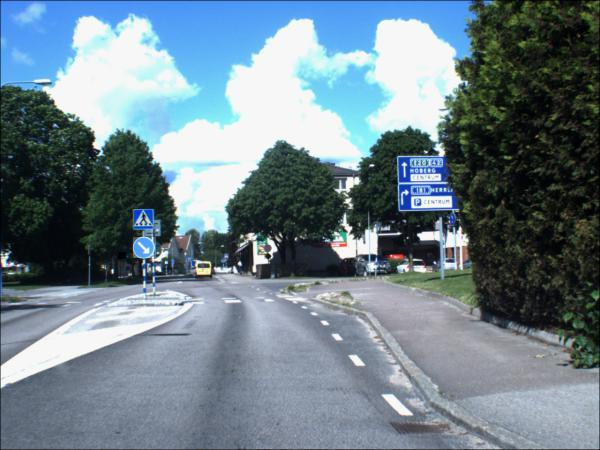NO_STOPPING_NO_STANDING: (265, 245, 275, 255)
PASS_RIGHT_SIDE: (134, 238, 158, 260), (194, 262, 198, 268), (189, 259, 193, 264)
PEDESTRIAN_CROSSING: (134, 210, 156, 232), (119, 253, 128, 261), (226, 255, 230, 260), (223, 260, 227, 264), (166, 262, 170, 266)
PRIORITY_ROAD: (266, 255, 274, 261)
